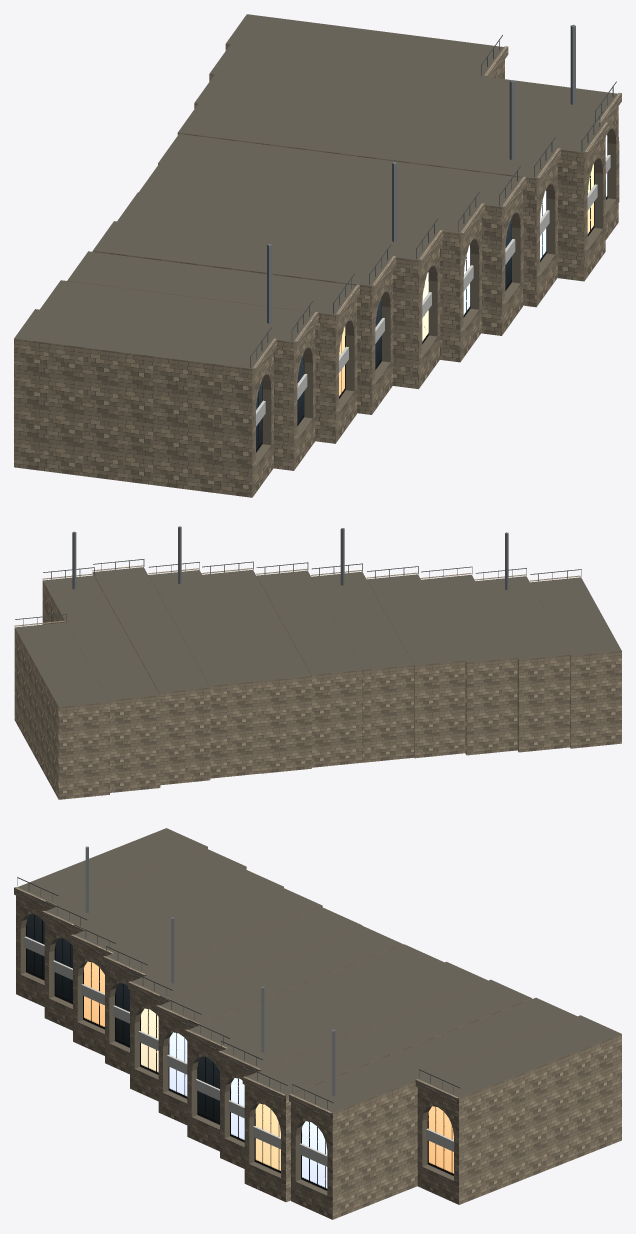
Rendered from z2b_markthalle.glb.
The picture shows the model from 3 angles, top to bottom: view 1: azimuth 30°, elevation 25°; view 2: azimuth 150°, elevation 25°; view 3: azimuth 270°, elevation 25°; orthographic projection. The views are drawn at different scales.
Parts seen in each view (by area): view 1: z2b_markthalle; view 2: z2b_markthalle; view 3: z2b_markthalle.
Boxes of the visible parts, box(x1,y1,x2,y2) form: z2b_markthalle: box(14, 14, 621, 497); z2b_markthalle: box(14, 526, 621, 799); z2b_markthalle: box(14, 828, 621, 1219).
Size of the model in its own units: 71.85 by 20.27 by 64.62.
Materials: 3 (3 with a texture image).
